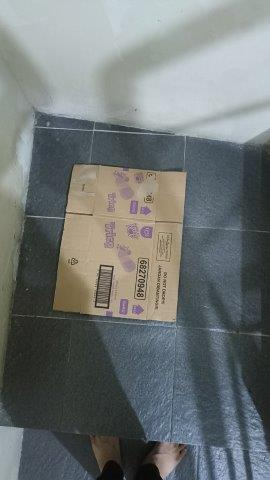kardus: (54, 165, 185, 320)
